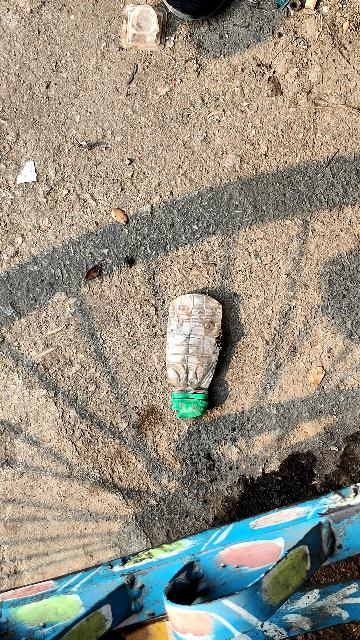bottle: (161, 288, 230, 428)
